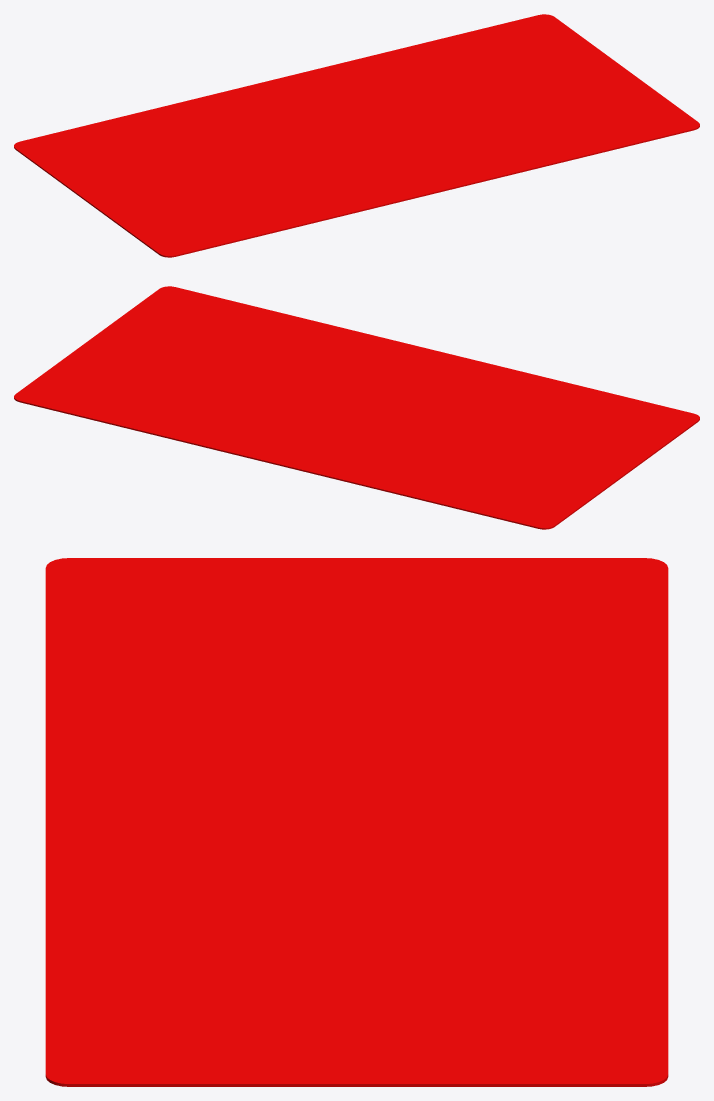
Rendered from rectangle_slim.gltf.
3 views of the same model, one above another, from view 1: azimuth 30°, elevation 25°; view 2: azimuth 150°, elevation 25°; view 3: azimuth 270°, elevation 25° (orthographic). The views are drawn at different scales.
Parts seen in each view (by area): view 1: Plane.005; view 2: Plane.005; view 3: Plane.005.
Boxes of the visible parts, x1=… form: Plane.005: x1=14, y1=14, x2=699, y2=257; Plane.005: x1=14, y1=286, x2=699, y2=529; Plane.005: x1=45, y1=558, x2=668, y2=1086.
Bounding box in the file's own units: 8 × 0.0201 × 4.
